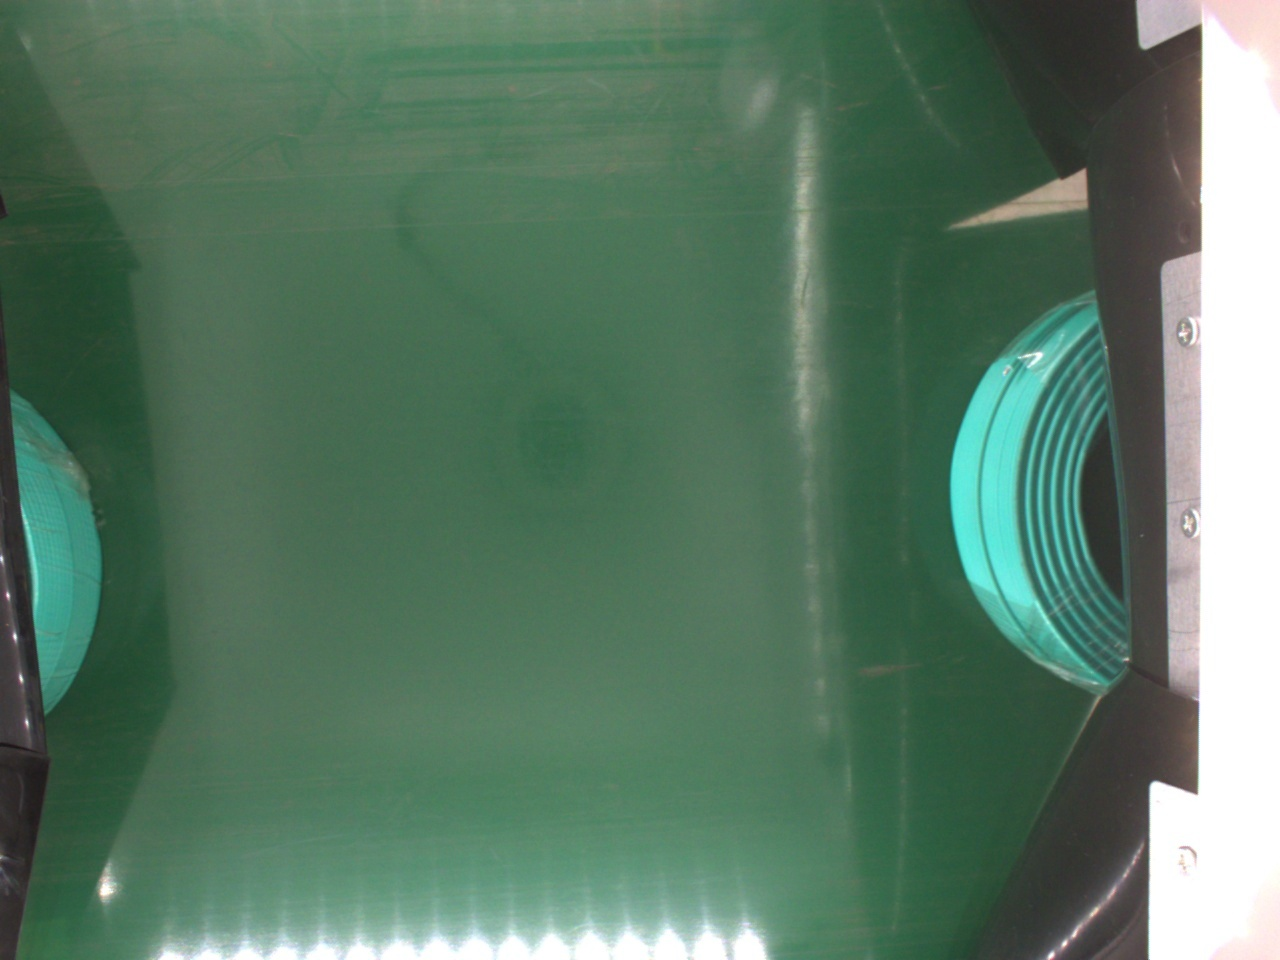green: (951, 288, 1132, 695)
